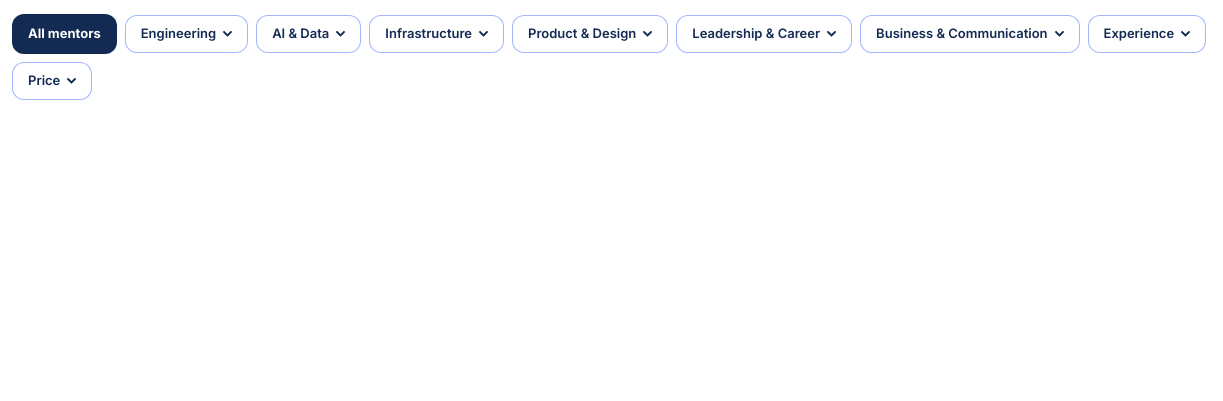
Test: MentorsFilters › single-selects a price bucket and closes the panel
Click the button "Price" at (52, 81), box [12,62,92,100]
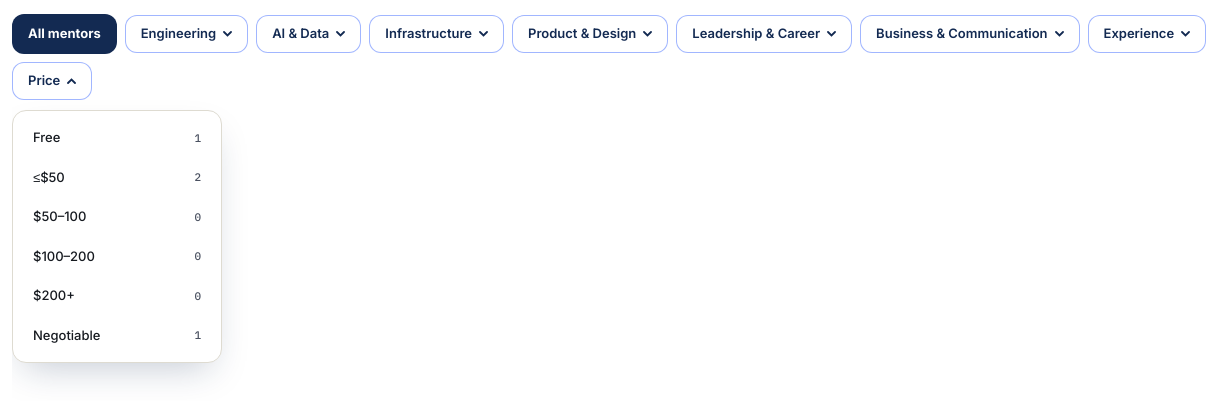
Result: the button "Free 1" is shown
Click the button "Free 1" at (117, 138), box [21,119,213,156]
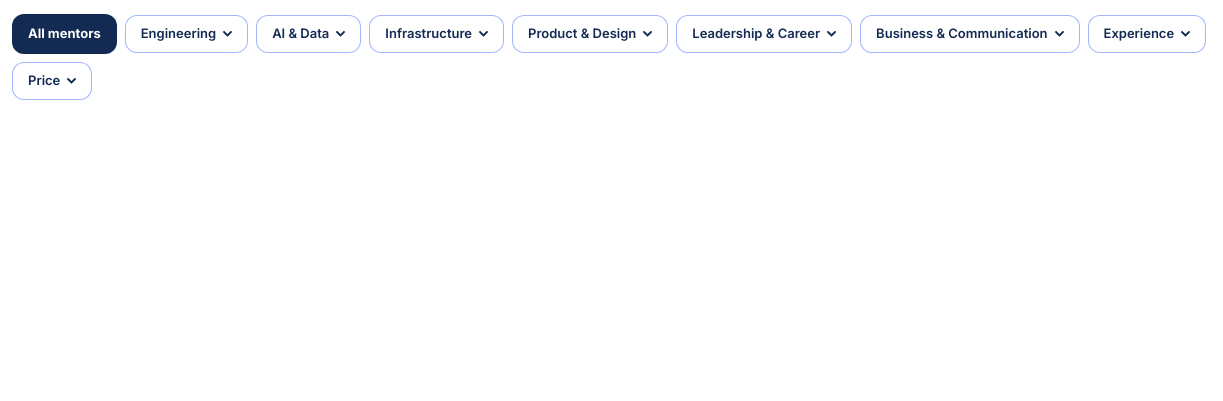
Result: the button "Negotiable" is gone
